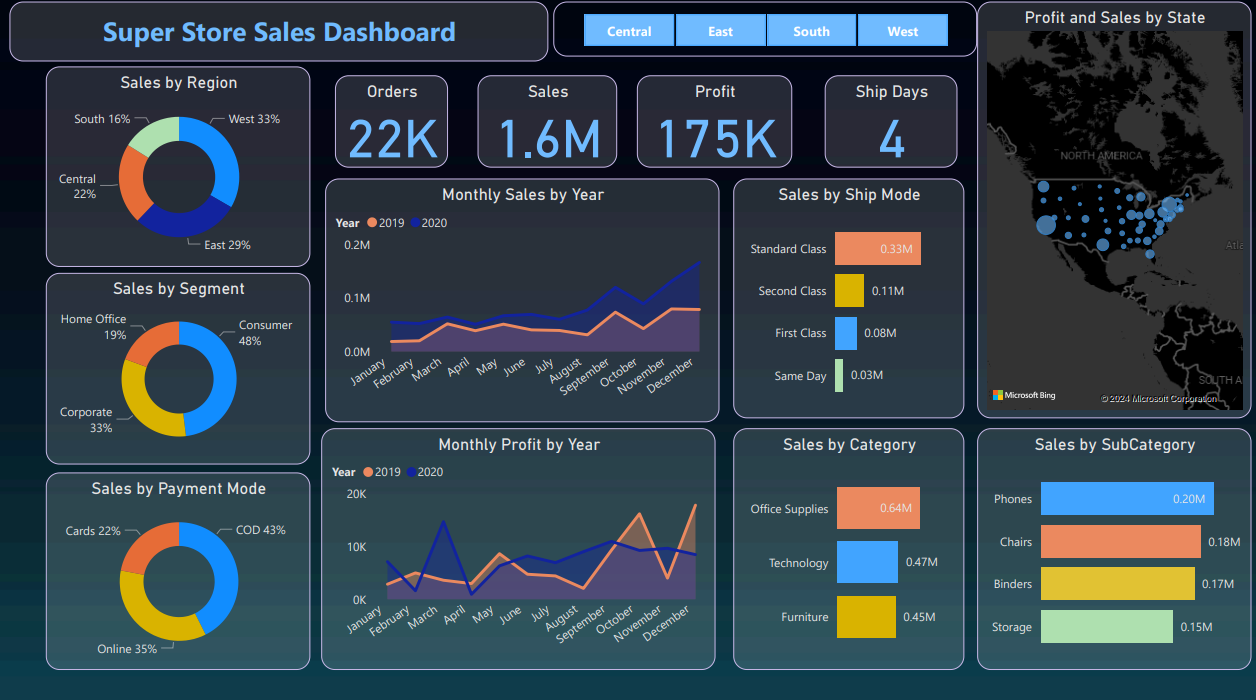

This screenshot's page, from the dashboard's own definition file:
{"tool":"powerbi","page":{"name":"Dashboard","canvas":[1280,720],"ordinal":0},"visuals":[{"type":"clusteredBarChart","title":"Sales by Category","fields":{"Category":["SuperStore_Sales_Dataset.Category"],"Y":["Sum(SuperStore_Sales_Dataset.Sales)"]},"box":[745.6,437.5,235,246.9],"z":0},{"type":"clusteredBarChart","title":"Sales by SubCategory","fields":{"Y":["Sum(SuperStore_Sales_Dataset.Sales)"],"Category":["SuperStore_Sales_Dataset.Sub-Category"]},"box":[993.8,437.5,279.4,246.9],"z":1000},{"type":"clusteredBarChart","title":"Sales by Ship Mode","fields":{"Y":["Sum(SuperStore_Sales_Dataset.Sales)"],"Category":["SuperStore_Sales_Dataset.Ship Mode"]},"box":[745.6,183.8,235,243.8],"z":2000},{"type":"areaChart","title":"Monthly Sales by Year","fields":{"Category":["SuperStore_Sales_Dataset.Order Date.Variation.Date Hierarchy.Month"],"Y":["Sum(SuperStore_Sales_Dataset.Sales)"],"Series":["SuperStore_Sales_Dataset.Order Date.Variation.Date Hierarchy.Year"]},"box":[331.2,183.8,400.6,248.1],"z":3000},{"type":"areaChart","title":"Monthly Profit by Year","fields":{"Category":["SuperStore_Sales_Dataset.Order Date.Variation.Date Hierarchy.Month"],"Series":["SuperStore_Sales_Dataset.Order Date.Variation.Date Hierarchy.Year"],"Y":["Sum(SuperStore_Sales_Dataset.Profit)"]},"box":[326.9,437.5,400.6,246.9],"z":4000},{"type":"map","title":"Profit and Sales by State","fields":{"Category":["SuperStore_Sales_Dataset.State"],"Size":["Sum(SuperStore_Sales_Dataset.Sales)"]},"box":[993.8,3.8,279.4,423.8],"z":5000},{"type":"donutChart","title":" Sales by Segment","fields":{"Category":["SuperStore_Sales_Dataset.Segment"],"Y":["Sum(SuperStore_Sales_Dataset.Sales)"]},"box":[46.9,280,269.4,195],"z":6000},{"type":"donutChart","title":" Sales by Payment Mode","fields":{"Y":["Sum(SuperStore_Sales_Dataset.Sales)"],"Category":["SuperStore_Sales_Dataset.Payment Mode"]},"box":[46.9,483.1,269.4,201.2],"z":7000},{"type":"slicer","fields":{"Values":["SuperStore_Sales_Dataset.Region"]},"box":[562.5,3.8,431.2,56.2],"z":8000},{"type":"textbox","box":[10,3.8,547.5,61.2],"z":9000},{"type":"card","title":"Sales","fields":{"Values":["Sum(SuperStore_Sales_Dataset.Sales)"]},"box":[486.2,79.4,141.9,93.8],"z":10000},{"type":"card","title":"Orders","fields":{"Values":["Sum(SuperStore_Sales_Dataset.Quantity)"]},"box":[341.2,79.4,114.4,93.8],"z":11000},{"type":"card","title":"Profit","fields":{"Values":["Sum(SuperStore_Sales_Dataset.Profit)"]},"box":[648.1,79.4,158.1,93.8],"z":12000},{"type":"card","title":"Ship Days","fields":{"Values":["Avg(SuperStore_Sales_Dataset.AvgDelivery)"]},"box":[839.4,79.4,135,93.8],"z":13000},{"type":"donutChart","title":"Sales by Region","fields":{"Y":["Sum(SuperStore_Sales_Dataset.Sales)"],"Category":["SuperStore_Sales_Dataset.Region"]},"box":[46.9,70,269.4,203.8],"z":13001}]}

Visuals, with their boxes in screenshot pixels (x1, y1, x2, y2), scaled from the page's 1280x720 canvas onto the 1256x700 screenshot:
"Sales by Category" clusteredBarChart: box(732, 425, 962, 665)
"Sales by SubCategory" clusteredBarChart: box(975, 425, 1249, 665)
"Sales by Ship Mode" clusteredBarChart: box(732, 179, 962, 416)
"Monthly Sales by Year" areaChart: box(325, 179, 718, 420)
"Monthly Profit by Year" areaChart: box(321, 425, 714, 665)
"Profit and Sales by State" map: box(975, 4, 1249, 416)
" Sales by Segment" donutChart: box(46, 272, 310, 462)
" Sales by Payment Mode" donutChart: box(46, 470, 310, 665)
slicer - SuperStore_Sales_Dataset.Region: box(552, 4, 975, 58)
textbox: box(10, 4, 547, 63)
"Sales" card: box(477, 77, 616, 168)
"Orders" card: box(335, 77, 447, 168)
"Profit" card: box(636, 77, 791, 168)
"Ship Days" card: box(824, 77, 956, 168)
"Sales by Region" donutChart: box(46, 68, 310, 266)
